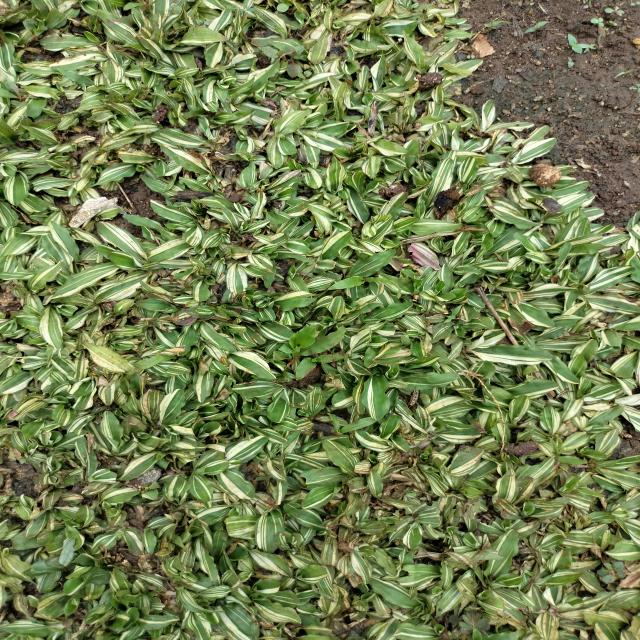bayi: (603, 5, 627, 17), (590, 16, 605, 28), (605, 19, 621, 28), (532, 94, 544, 102), (630, 1, 640, 8), (465, 54, 476, 60)
buah daun: (446, 610, 493, 638)
gingseng jawa: (124, 0, 160, 16)
rambat atas: (326, 410, 381, 438), (523, 19, 549, 35), (567, 31, 583, 55), (481, 17, 506, 29), (614, 68, 636, 79)
rambat bawah: (271, 322, 348, 373), (327, 273, 403, 299), (292, 353, 348, 381)
tunggang tengah: (597, 559, 629, 585)
ungu tunggang: (259, 44, 314, 86)
